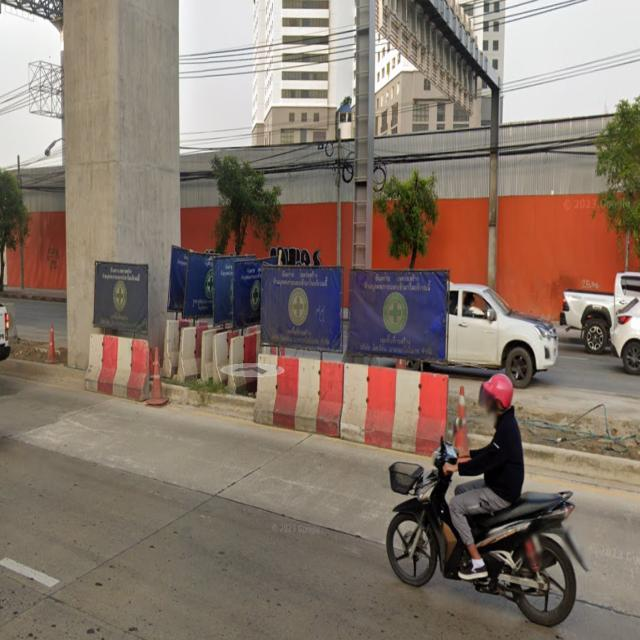fallen_object: (235, 339, 451, 456), (152, 313, 264, 378), (79, 320, 148, 403), (443, 376, 481, 467), (145, 333, 172, 420)
